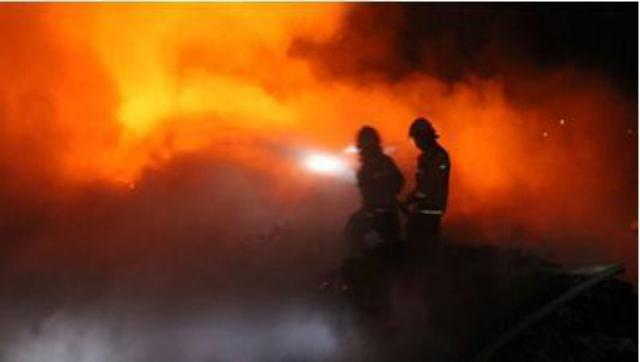fire: (0, 0, 351, 180)
